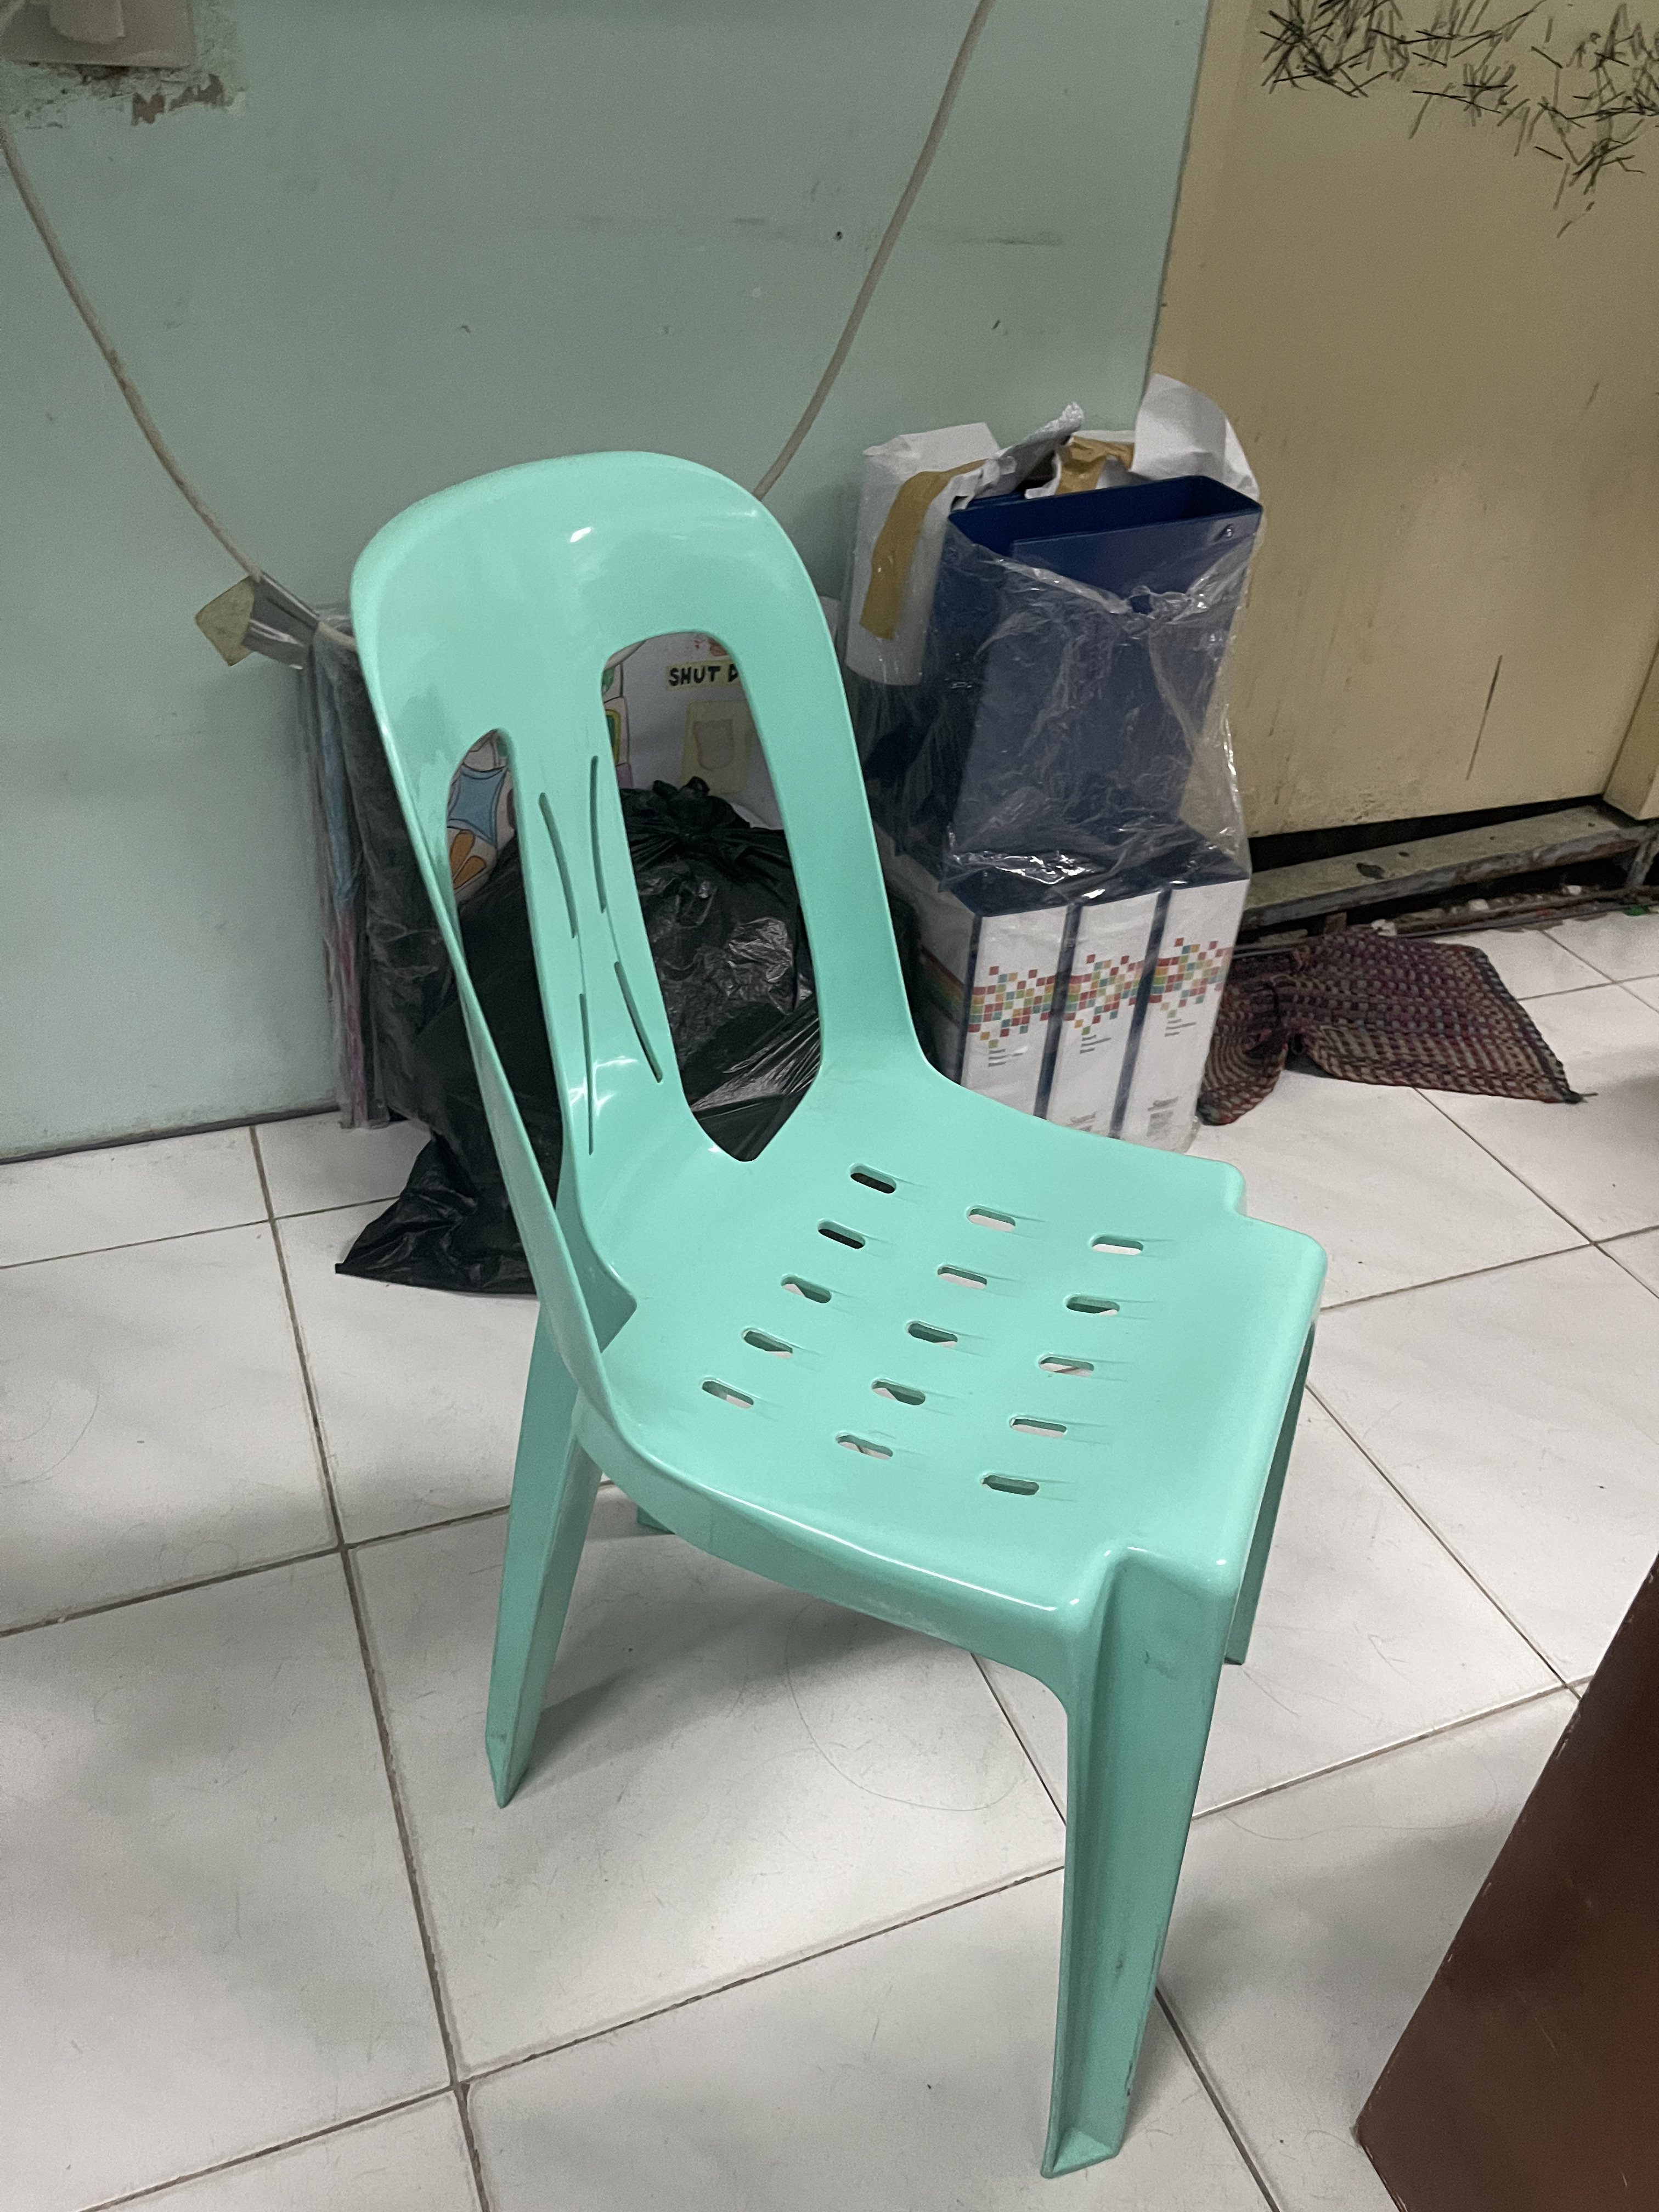chair2: (340, 442, 1335, 2177)
